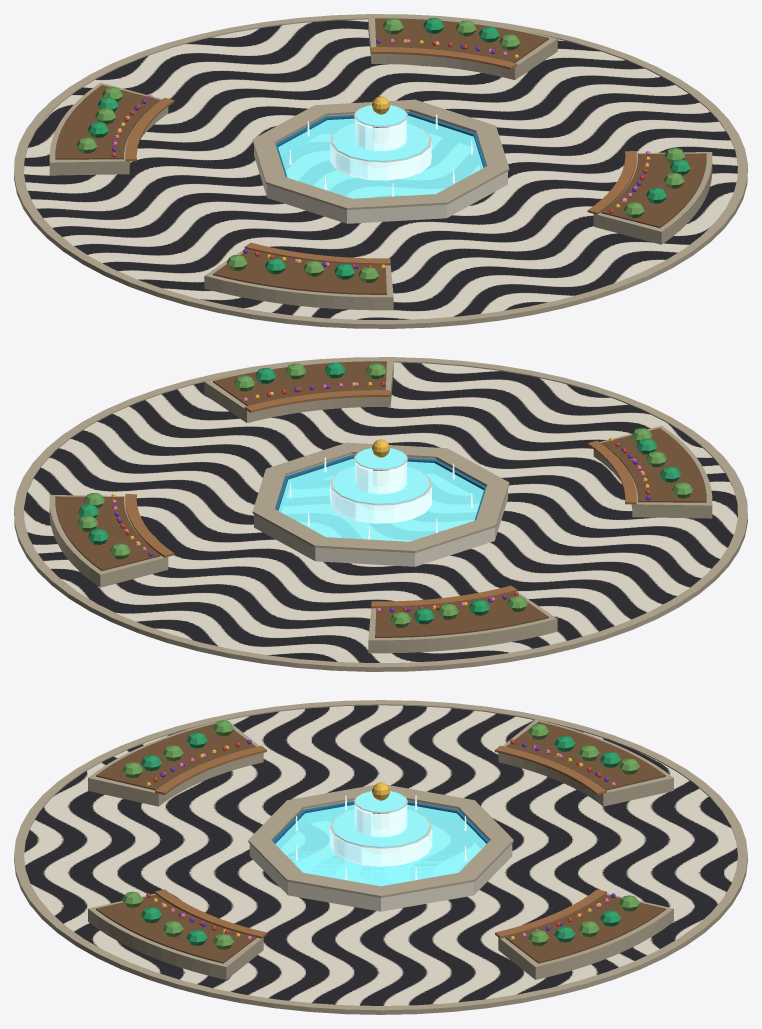
The model's file is praca-central.glb.
The picture shows the model from 3 angles, top to bottom: view 1: azimuth 30°, elevation 25°; view 2: azimuth 150°, elevation 25°; view 3: azimuth 270°, elevation 25°; orthographic projection.
Parts seen in each view (by area): view 1: praca-central; view 2: praca-central; view 3: praca-central.
Boxes of the visible parts, <box> form: praca-central: <box>14,14,747,328</box>; praca-central: <box>14,357,747,671</box>; praca-central: <box>14,700,747,1014</box>.
Bounding box in the file's own units: 25.7 × 2.96 × 25.7.
Materials: 14 (1 with a texture image).
